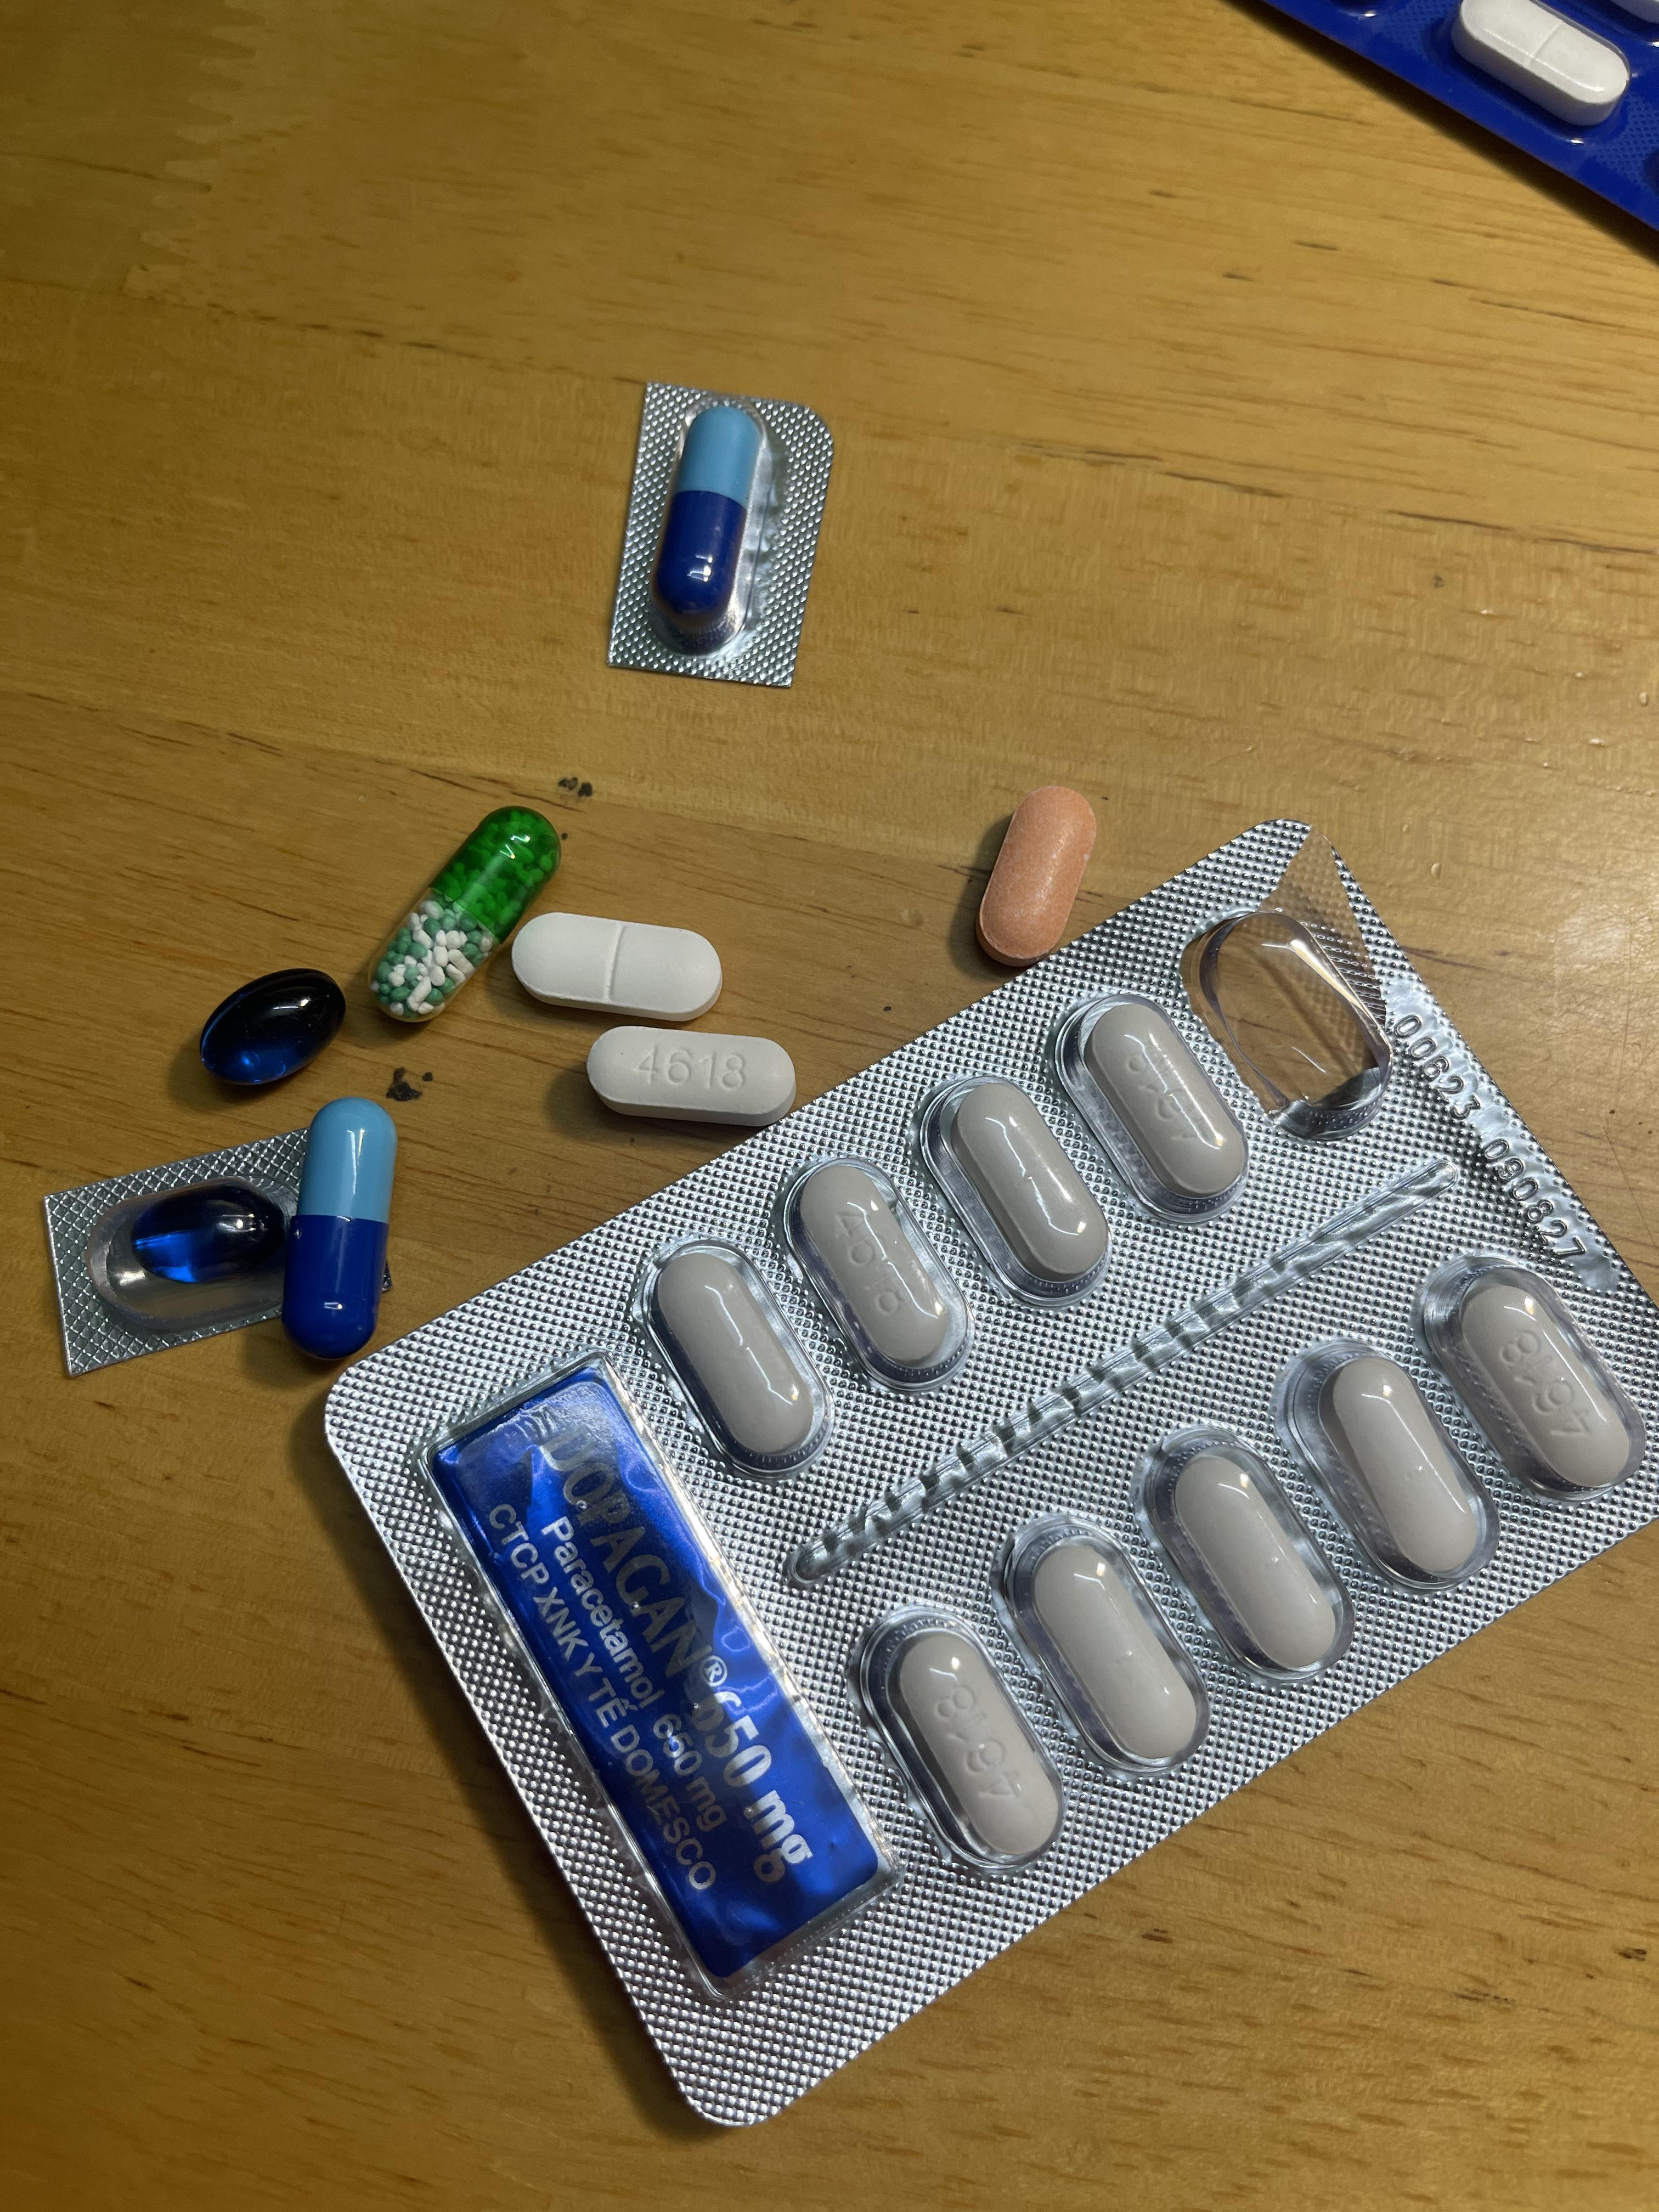Lincomyxin_500mg: (204, 967, 349, 1087), (132, 1191, 282, 1285)
Loratadine_10mg: (972, 787, 1101, 963)
Paracetamol_350mg: (511, 914, 720, 1022)
Paracetamol_500mg: (997, 1501, 1206, 1777), (863, 1618, 1058, 1869), (910, 1078, 1112, 1305), (1293, 1346, 1481, 1581), (788, 1158, 972, 1388), (1063, 993, 1253, 1216), (1169, 1447, 1335, 1683), (652, 1245, 819, 1468), (1459, 1280, 1631, 1489), (587, 1028, 795, 1122)
Paracetamol_650mg: (368, 808, 559, 1024)
pill: (653, 402, 774, 651), (286, 1106, 396, 1352)
